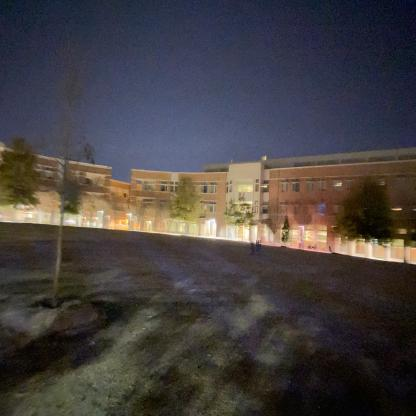eb3: (125, 145, 415, 259)
